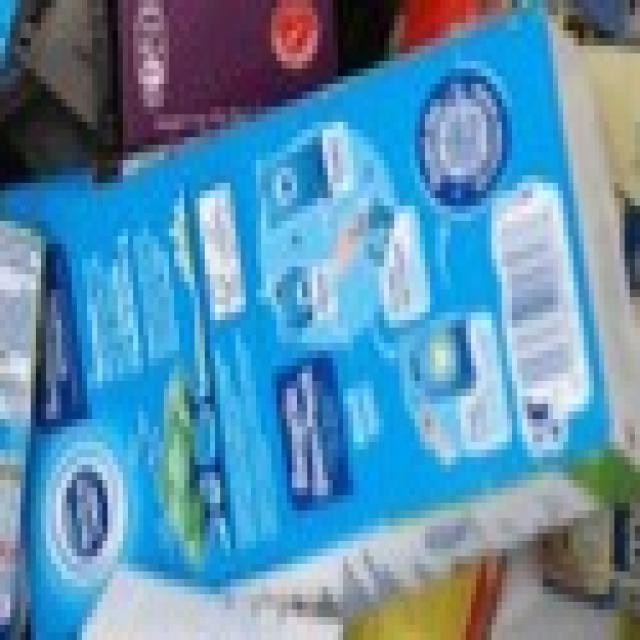drink carton: (10, 0, 640, 625)
